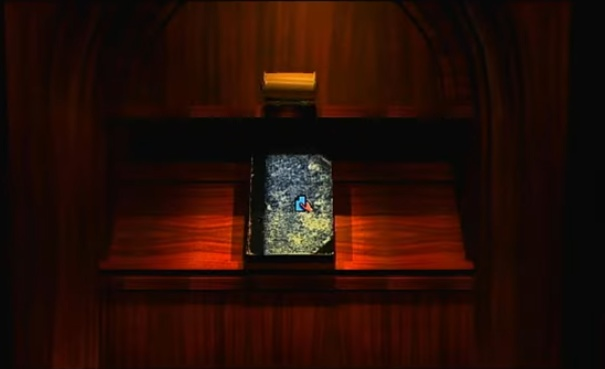Keep: (292, 193, 317, 213)
